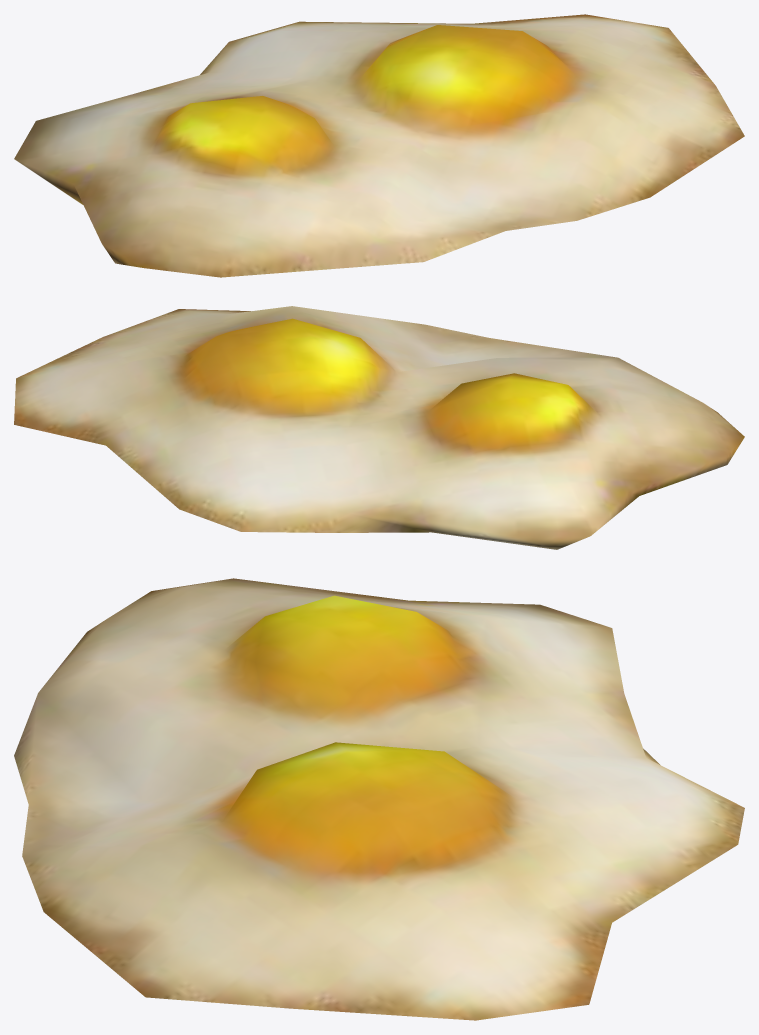
Rendered from SM_omelet_01.gltf.
3 views of the same model, one above another, from view 1: azimuth 30°, elevation 25°; view 2: azimuth 150°, elevation 25°; view 3: azimuth 270°, elevation 25° (orthographic). The views are drawn at different scales.
Visible parts, largest first — view 1: SM_omelet_01; view 2: SM_omelet_01; view 3: SM_omelet_01.
Boxes of the visible parts, x1,y1,x2,y2 form: SM_omelet_01: (14, 14, 744, 277); SM_omelet_01: (14, 306, 744, 549); SM_omelet_01: (14, 578, 744, 1020).
Size of the model in its own units: 0.3468 by 0.0413 by 0.2508.
1 material, 1 textured.
